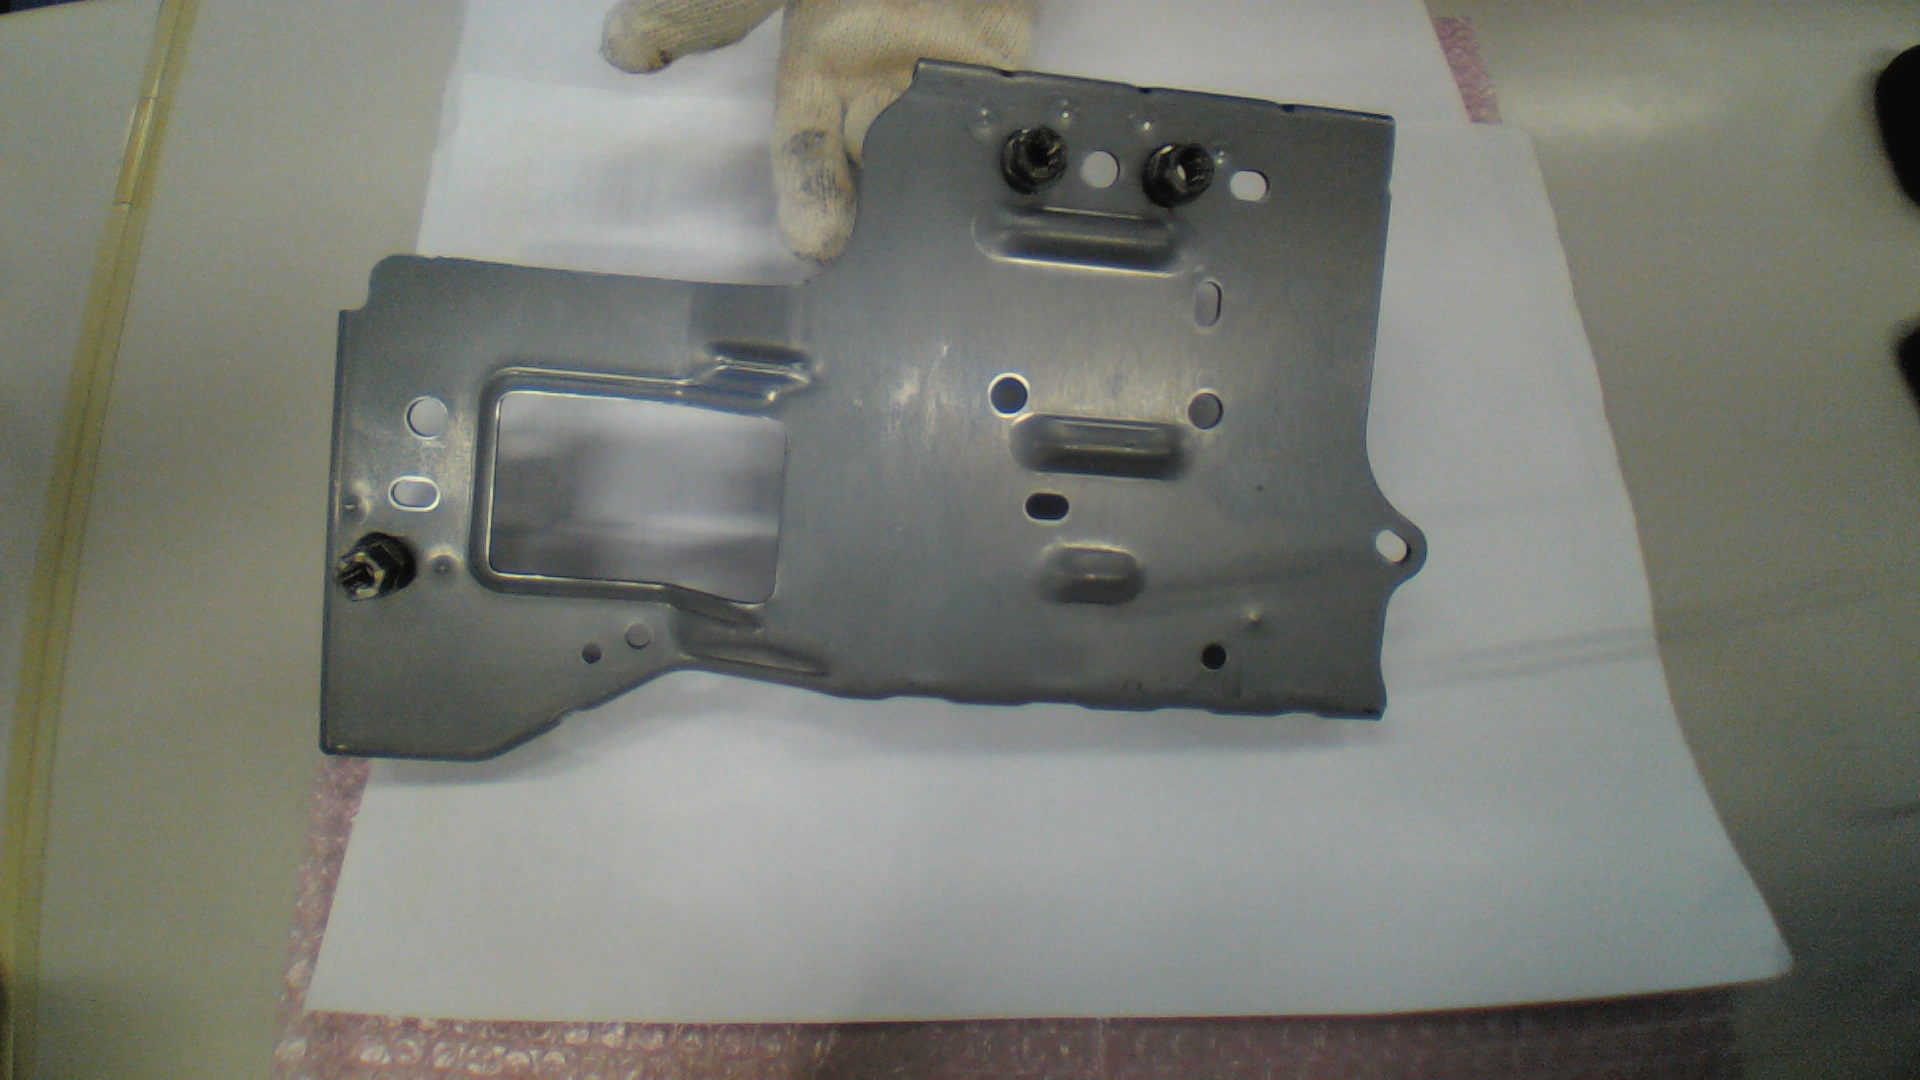dog: (334, 531, 415, 600), (1001, 127, 1068, 195), (1145, 140, 1215, 206)
